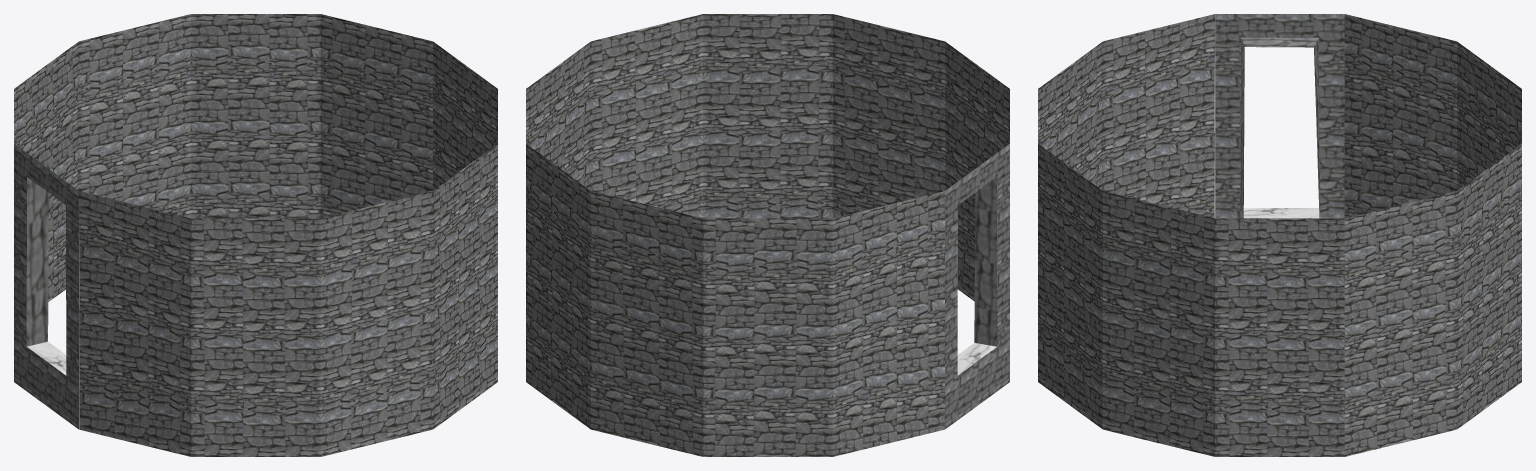
The model's file is tower_outer_wall.fbx.
3 renders of one model, left to right at view 1: azimuth 30°, elevation 25°; view 2: azimuth 150°, elevation 25°; view 3: azimuth 270°, elevation 25°, orthographic.
Visible parts, largest first — view 1: MESH_outer_wall; view 2: MESH_outer_wall; view 3: MESH_outer_wall.
Boxes of the visible parts, <box> form: MESH_outer_wall: <box>14,14,497,456</box>; MESH_outer_wall: <box>526,14,1009,456</box>; MESH_outer_wall: <box>1038,14,1521,456</box>.
Bounding box in the file's own units: 6182 × 3364 × 6182.
